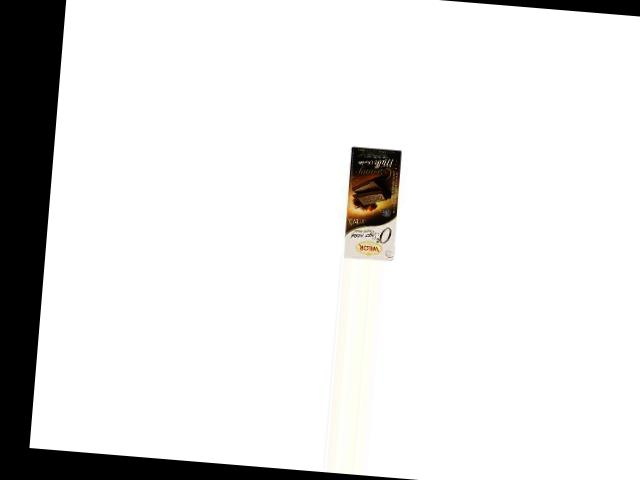chocolate: (340, 145, 405, 261)
